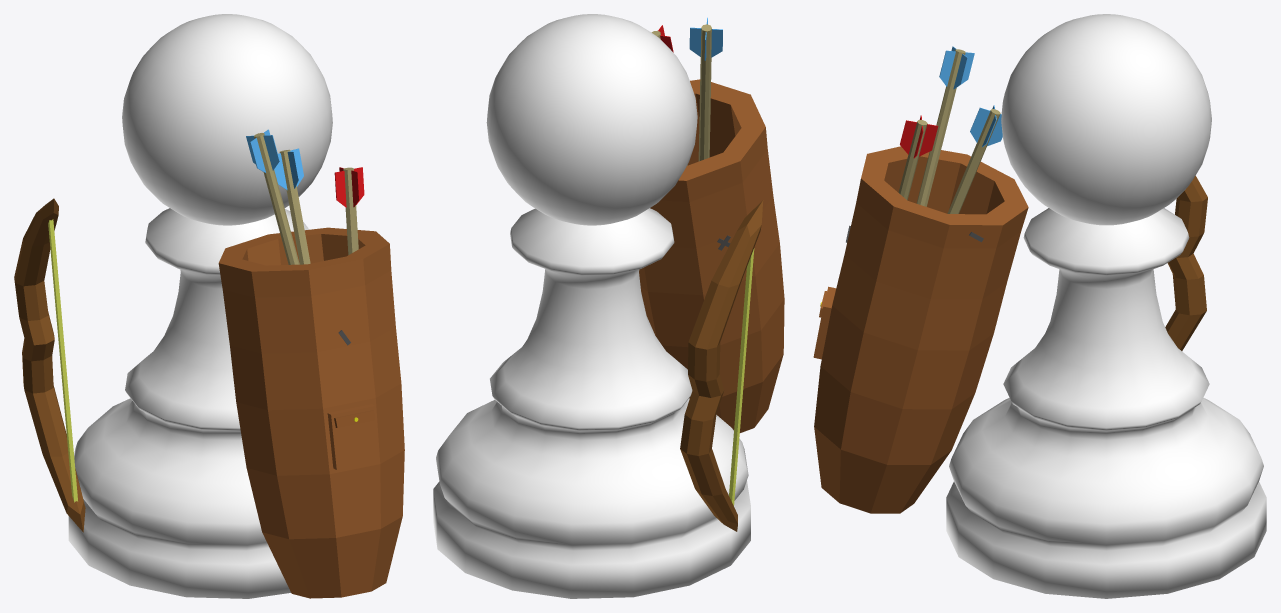
The model's file is pion_archer.glb.
3 renders of one model, left to right at view 1: azimuth 30°, elevation 25°; view 2: azimuth 150°, elevation 25°; view 3: azimuth 270°, elevation 25°, orthographic.
Visible parts, largest first — view 1: pawn_black, Cylindre, Cube; view 2: pawn_black, Cylindre, Cube; view 3: pawn_black, Cylindre, Cube.
Part boxes in pixels (left/top/right/bottom): pawn_black: left=68, top=14, right=332, bottom=598; Cylindre: left=218, top=129, right=404, bottom=598; Cube: left=14, top=198, right=85, bottom=532; pawn_black: left=433, top=14, right=750, bottom=598; Cylindre: left=639, top=17, right=784, bottom=432; Cube: left=680, top=200, right=763, bottom=531; pawn_black: left=946, top=14, right=1266, bottom=598; Cylindre: left=813, top=46, right=1028, bottom=513; Cube: left=1165, top=175, right=1207, bottom=350.
Bounding box in the file's own units: 0.9146 × 1.4 × 1.13.
